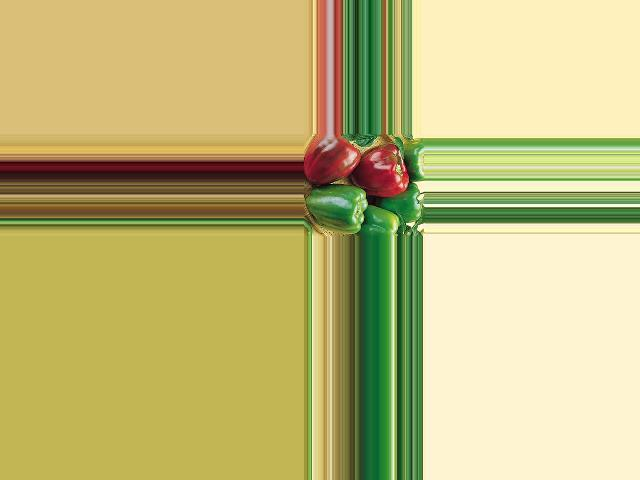bell_pepper: (303, 136, 360, 181)
